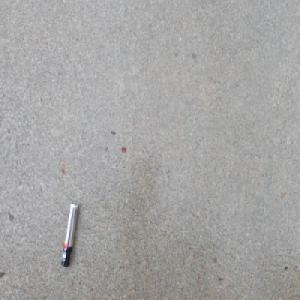Battery: (58, 198, 77, 267)
